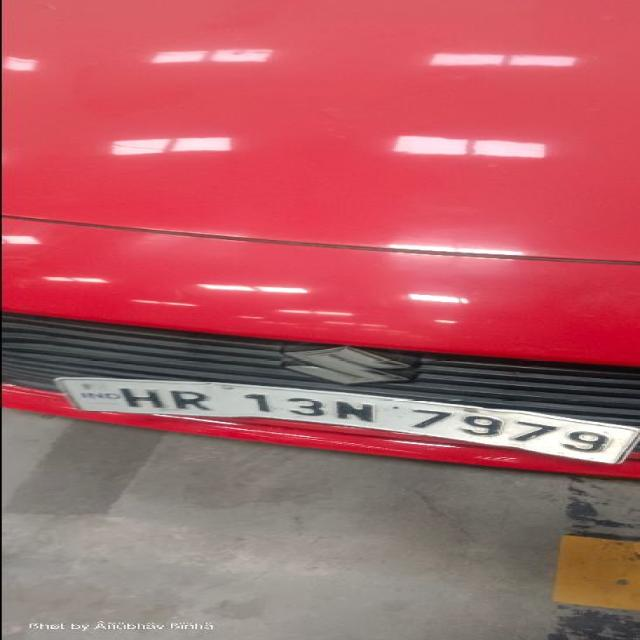license_plate: (1, 0, 636, 482), (51, 375, 638, 465)
